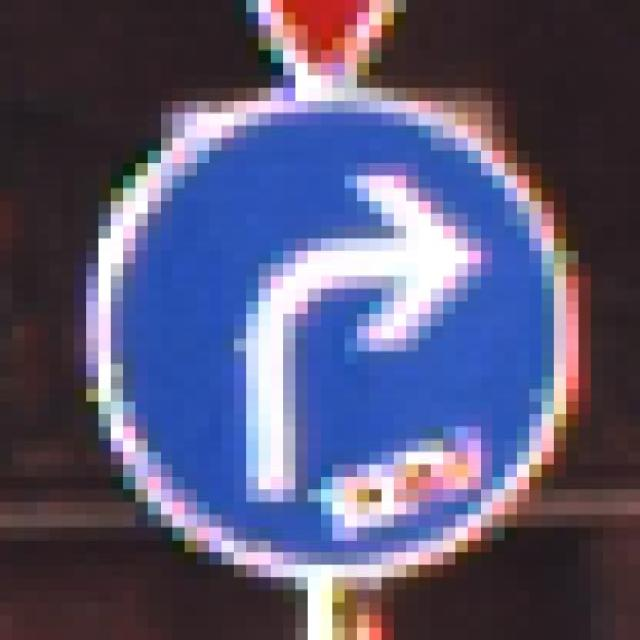Turn right ahead: (62, 75, 603, 590)
